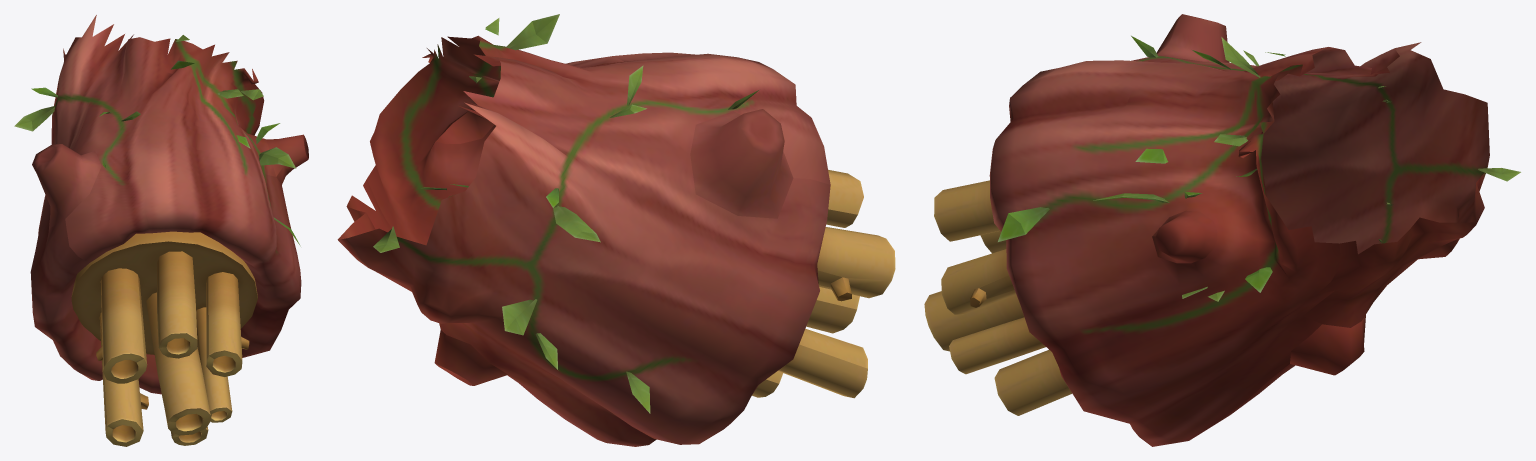
Rendered from torchwood_antebrazo_der.obj.
3 views of the same model, side by side, from view 1: azimuth 30°, elevation 25°; view 2: azimuth 150°, elevation 25°; view 3: azimuth 270°, elevation 25° (orthographic). The views are drawn at different scales.
Parts seen in each view (by area): view 1: torchwood_antebrazo_der; view 2: torchwood_antebrazo_der; view 3: torchwood_antebrazo_der.
Boxes of the visible parts, left/top/right/bottom form: torchwood_antebrazo_der: left=14, top=15, right=308, bottom=446; torchwood_antebrazo_der: left=337, top=14, right=895, bottom=446; torchwood_antebrazo_der: left=924, top=14, right=1520, bottom=446.
Bounding box in the file's own units: 0.8524 × 0.9146 × 1.18.
